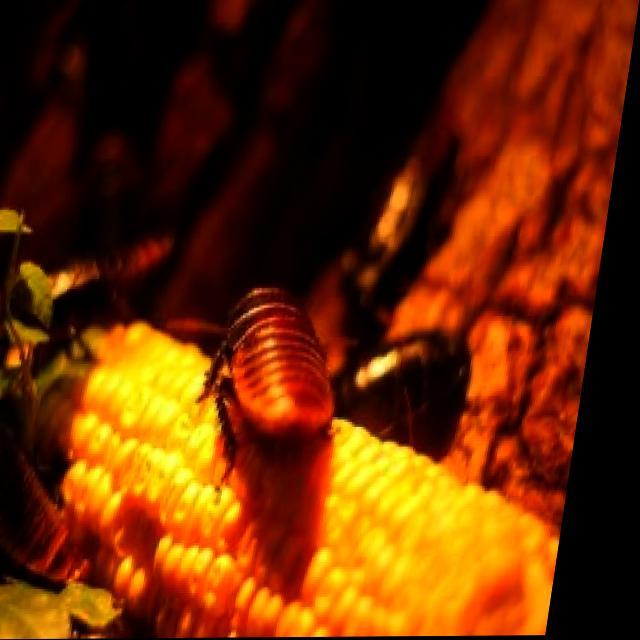cockroach: (190, 250, 353, 472)
